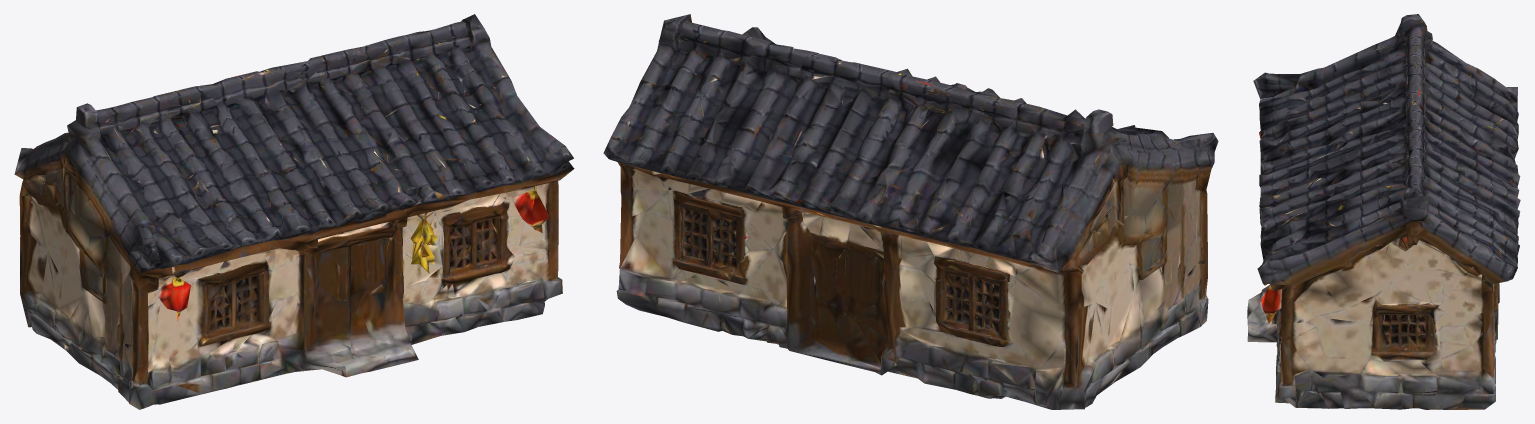
Rendered from bq_farmhouse.lod1.glb.
3 views of the same model, side by side, from view 1: azimuth 30°, elevation 25°; view 2: azimuth 150°, elevation 25°; view 3: azimuth 270°, elevation 25° (orthographic). The views are drawn at different scales.
Size of the model in its own units: 1.9 by 1.02 by 1.15.
1 material, 1 textured.
